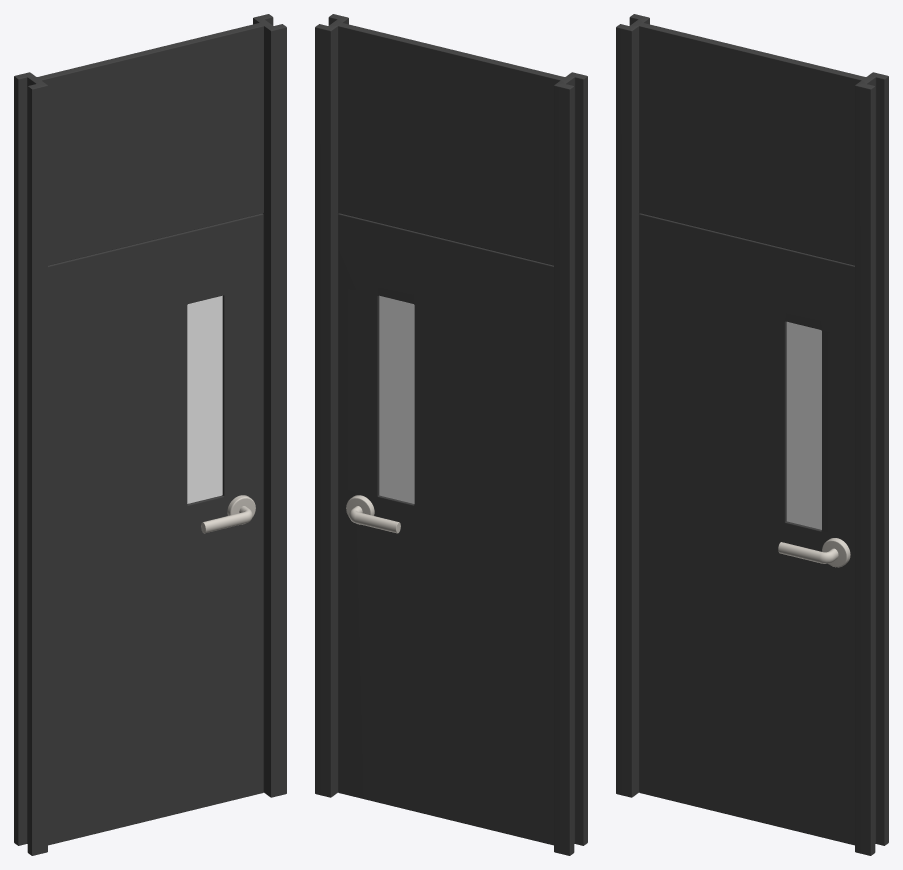
File: MEGA_PACK_door__Classroom-door-grey.glb
3 renders of one model, left to right at view 1: azimuth 30°, elevation 25°; view 2: azimuth 150°, elevation 25°; view 3: azimuth 330°, elevation 25°, orthographic.
Parts seen in each view (by area): view 1: Classroom-door-grey; view 2: Classroom-door-grey; view 3: Classroom-door-grey.
Boxes of the visible parts, bbox=[...] form: Classroom-door-grey: bbox=[14, 14, 286, 855]; Classroom-door-grey: bbox=[315, 14, 587, 855]; Classroom-door-grey: bbox=[616, 14, 888, 855].
Size of the model in its own units: 0.94 by 2.7 by 0.1893.
1 material, 1 textured.
